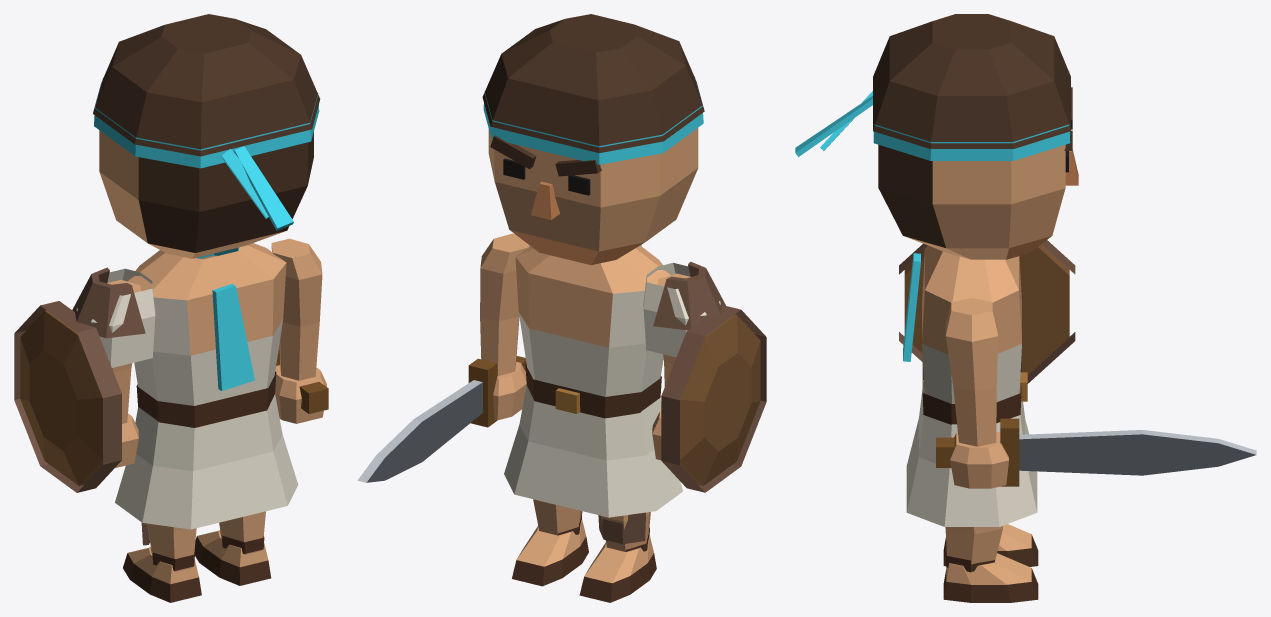
The model's file is CH_Nobody.fbx.
3 renders of one model, left to right at view 1: azimuth 30°, elevation 25°; view 2: azimuth 150°, elevation 25°; view 3: azimuth 270°, elevation 25°, orthographic. The views are drawn at different scales.
Parts seen in each view (by area): view 1: Head, Body, ArmL, ArmR, LegL, LegR; view 2: Head, Body, ArmL, ArmR, LegL, LegR; view 3: Head, Body, ArmR, ArmL, LegR, LegL.
Boxes of the visible parts, box(x1,y1,x2,y2) form: Head: box(93, 14, 320, 258); Body: box(115, 243, 298, 529); ArmL: box(14, 267, 155, 492); ArmR: box(271, 238, 328, 423); LegL: box(123, 522, 201, 602); LegR: box(194, 511, 271, 585); Head: box(482, 14, 704, 265); Body: box(504, 245, 682, 517); ArmL: box(643, 261, 766, 492); ArmR: box(357, 233, 529, 482); LegL: box(579, 512, 656, 602); LegR: box(512, 499, 588, 586); Head: box(795, 14, 1078, 259); Body: box(903, 245, 1037, 526); ArmR: box(936, 298, 1256, 488); ArmL: box(899, 240, 1075, 383); LegR: box(943, 526, 1038, 602); LegL: box(943, 524, 1038, 566).
Size of the model in its own units: 0.797 by 1.22 by 1.58.
